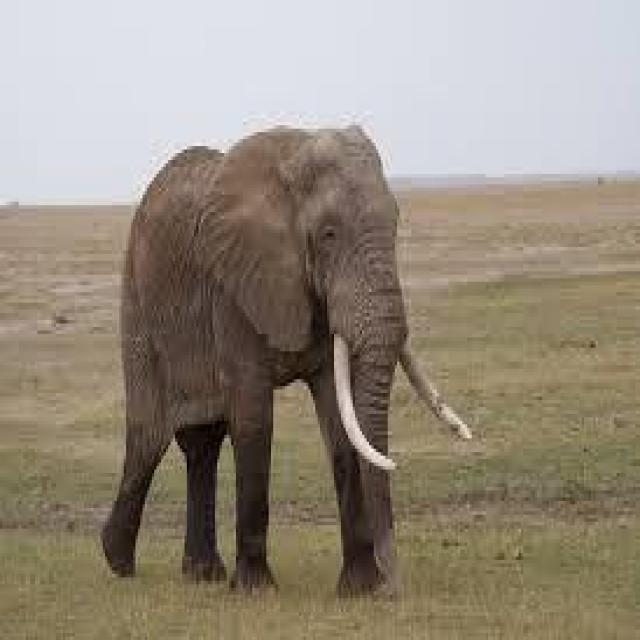Elephant: (96, 118, 406, 595)
